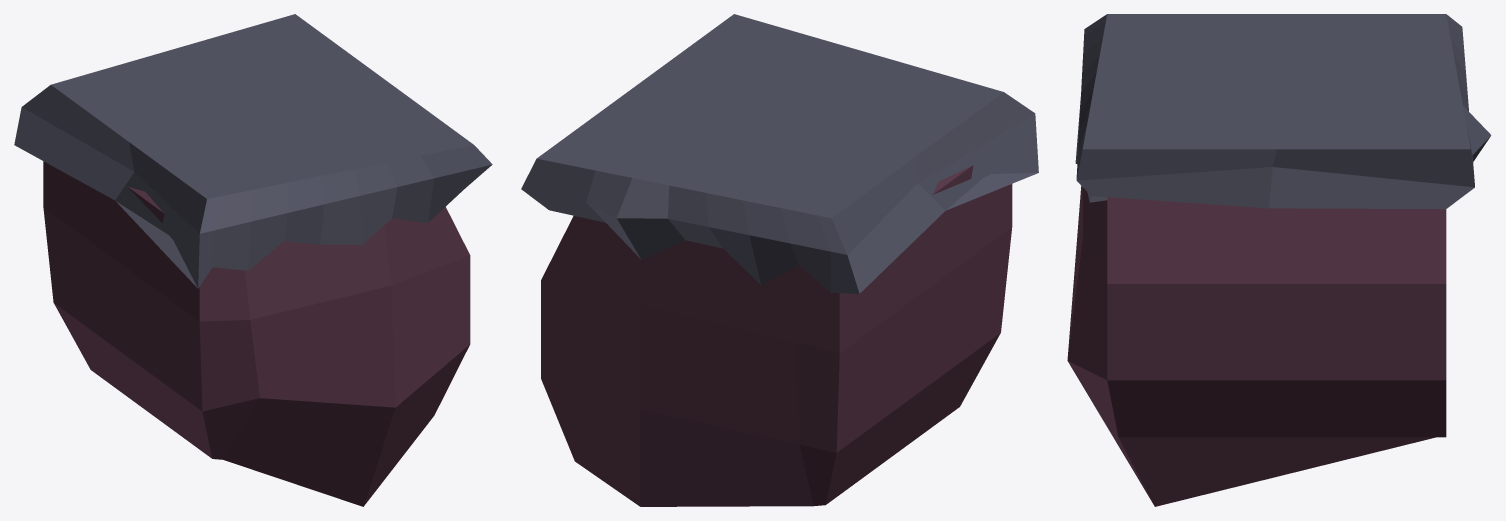
File: platform-ground.fbx
The picture shows the model from 3 angles, left to right: view 1: azimuth 30°, elevation 25°; view 2: azimuth 150°, elevation 25°; view 3: azimuth 270°, elevation 25°; orthographic projection. The views are drawn at different scales.
Visible parts, largest first — view 1: platform, ground; view 2: platform, ground; view 3: platform, ground.
Part boxes in pixels (bbox=[...]): platform: bbox=[43, 161, 470, 506]; ground: bbox=[14, 14, 492, 288]; platform: bbox=[541, 165, 1012, 506]; ground: bbox=[521, 14, 1038, 293]; platform: bbox=[1067, 186, 1446, 506]; ground: bbox=[1075, 14, 1491, 209].
Size of the model in its own units: 223 by 259 by 250.
